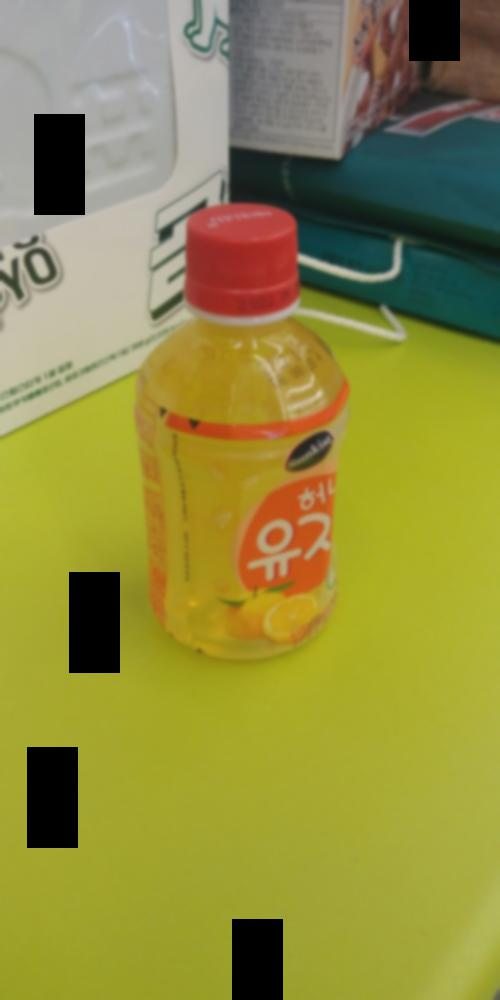honeyyuja: (138, 195, 367, 660)
